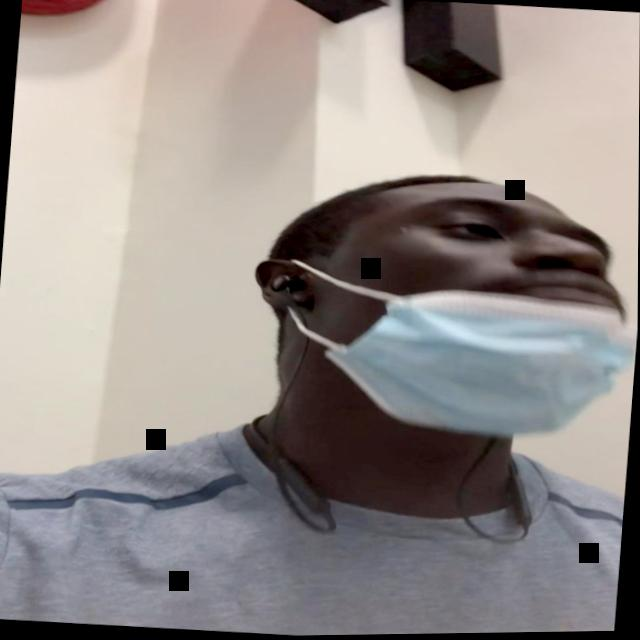NO-Mask: (280, 172, 639, 447)
